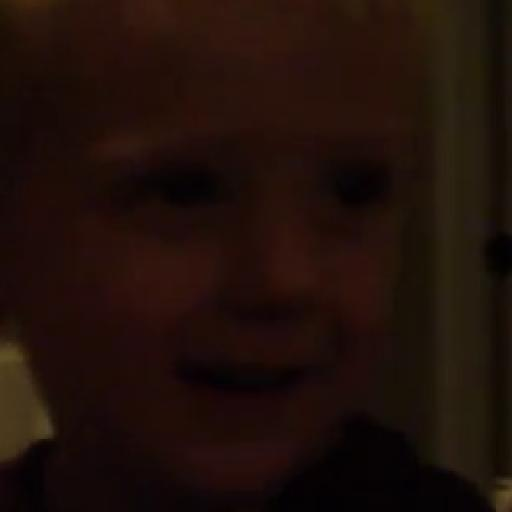Autism: (14, 1, 445, 501)
